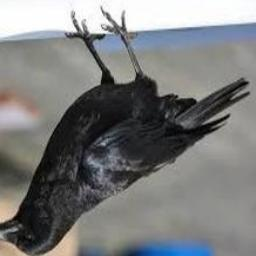Crow: (0, 12, 249, 256)
